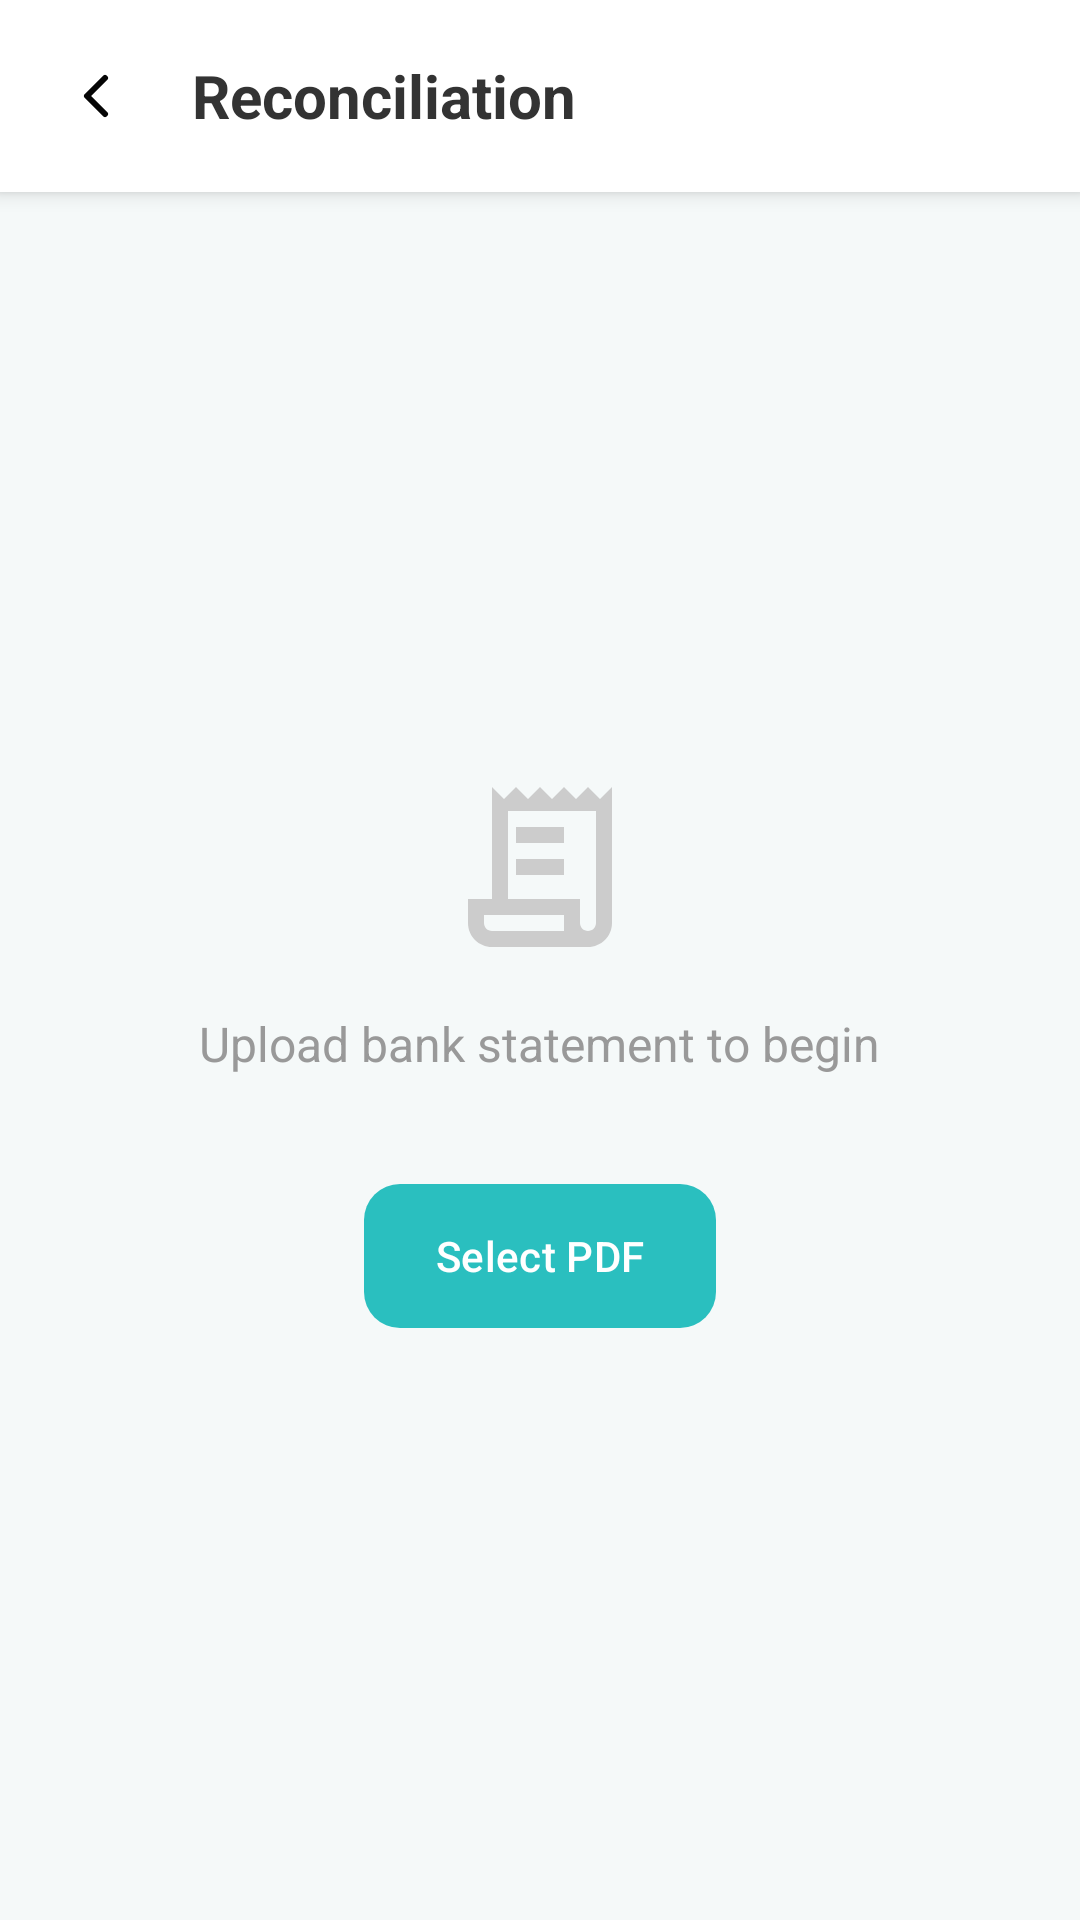

Icon click points for this 1080 x 1920 phone screenshot, format (x,y):
Back: (96,96)
receipt long: (540,867)
